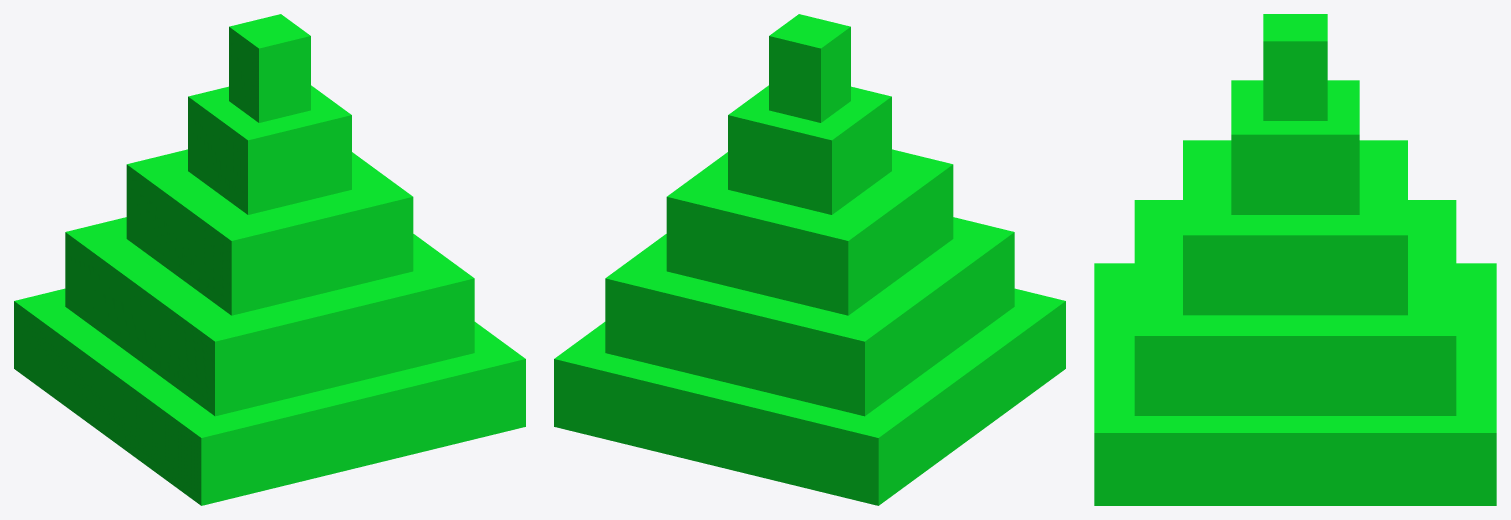
File: montaña.fbx
The picture shows the model from 3 angles, left to right: view 1: azimuth 30°, elevation 25°; view 2: azimuth 150°, elevation 25°; view 3: azimuth 270°, elevation 25°; orthographic projection. The views are drawn at different scales.
Visible parts, largest first — view 1: Piso, Piso 1, Piso2, Piso3, piso4; view 2: Piso, Piso 1, Piso2, Piso3, piso4; view 3: Piso, Piso 1, Piso2, Piso3, piso4.
Boxes of the visible parts, left/top/right/bottom form: Piso: left=14, top=288, right=525, bottom=505; Piso 1: left=65, top=217, right=474, bottom=416; Piso2: left=126, top=149, right=413, bottom=315; Piso3: left=188, top=85, right=351, bottom=214; piso4: left=229, top=14, right=310, bottom=122; Piso: left=554, top=288, right=1065, bottom=505; Piso 1: left=605, top=217, right=1014, bottom=416; Piso2: left=666, top=149, right=953, bottom=315; Piso3: left=728, top=85, right=891, bottom=214; piso4: left=769, top=14, right=850, bottom=122; Piso: left=1094, top=263, right=1496, bottom=505; Piso 1: left=1134, top=200, right=1456, bottom=415; Piso2: left=1183, top=140, right=1407, bottom=315; Piso3: left=1231, top=80, right=1359, bottom=214; piso4: left=1263, top=14, right=1327, bottom=120.
Size of the model in its own units: 5000 by 5398 by 5000.
